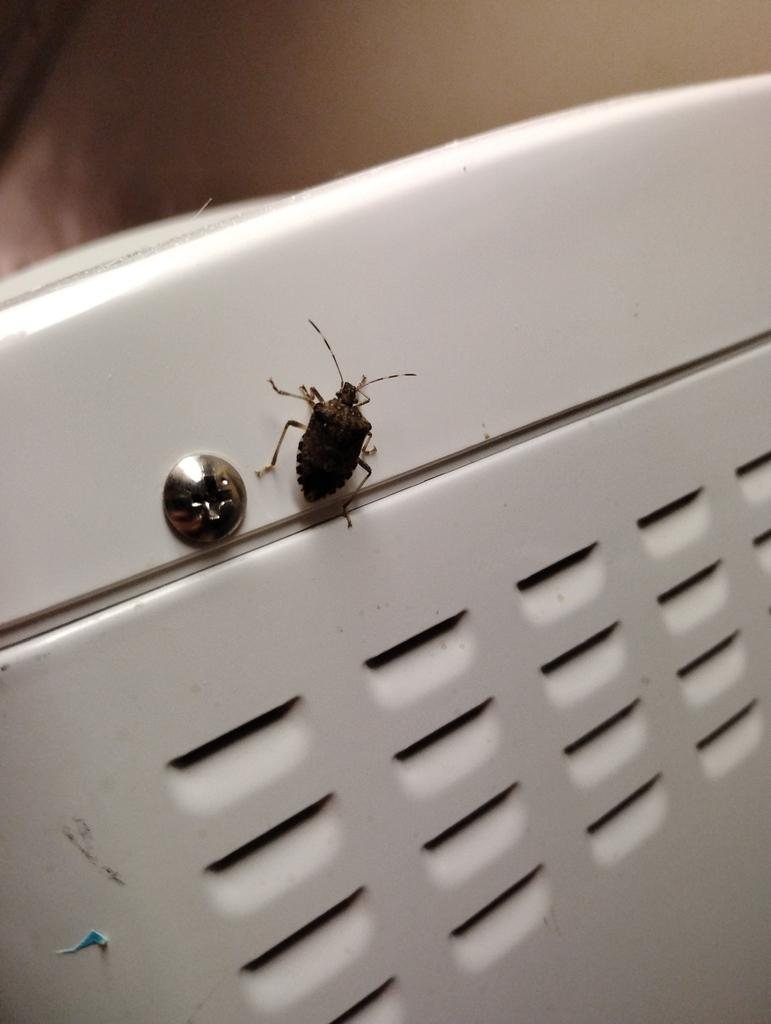stink_bugs: (237, 298, 435, 548)
